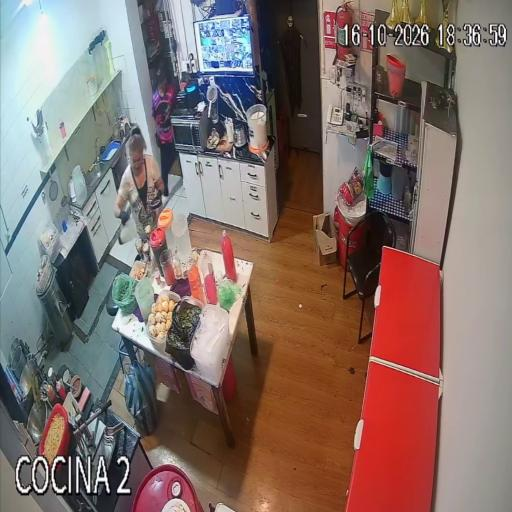Balde: (246, 104, 267, 149)
Cernidor: (206, 84, 217, 118)
Jarra1: (150, 227, 167, 276)
Jarra2: (158, 208, 176, 253)
Jarra3: (135, 277, 153, 321)
Jarra4: (172, 214, 191, 266)
Licuadora: (206, 84, 225, 140)
Licuadora2: (234, 122, 246, 147)
Microondas: (171, 110, 208, 152)
Persona2: (114, 128, 163, 238)
Persona5: (152, 69, 177, 196)
Taper: (130, 261, 148, 281)
Taper2: (146, 290, 180, 353)
Taper3: (165, 297, 202, 370)
Taper4: (190, 304, 230, 383)
